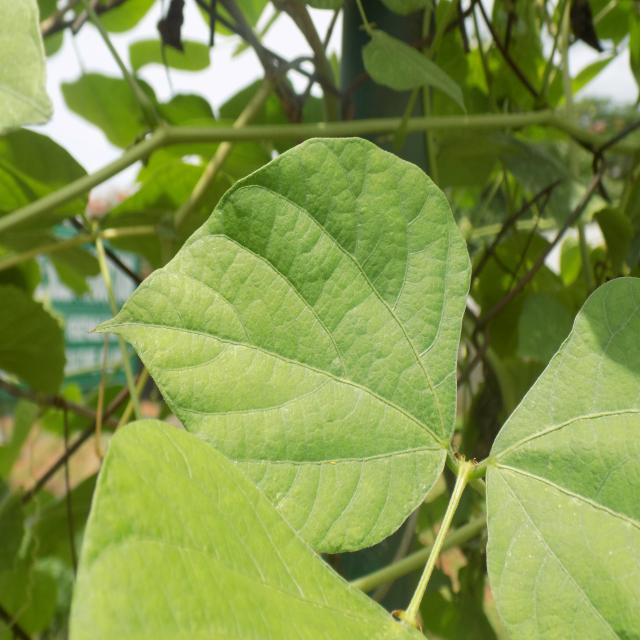Dolicos bean_healthy: (100, 139, 460, 539)
